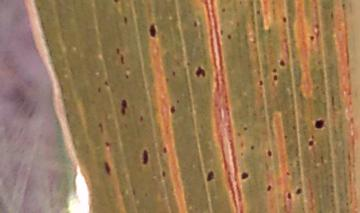tarspot: (145, 20, 160, 41), (311, 115, 328, 133), (139, 147, 152, 169), (236, 169, 255, 184), (117, 95, 129, 117), (193, 63, 209, 79), (100, 160, 115, 177), (202, 168, 218, 183), (294, 182, 304, 200), (305, 136, 317, 151), (264, 146, 275, 162), (306, 32, 318, 45), (167, 102, 178, 116), (255, 76, 266, 90), (270, 72, 282, 84), (252, 7, 264, 19), (102, 138, 114, 150), (224, 31, 235, 44), (279, 13, 290, 26), (159, 143, 169, 157), (190, 17, 200, 31), (158, 168, 169, 180), (278, 56, 288, 69), (247, 143, 258, 154), (284, 168, 294, 180), (136, 112, 145, 125), (264, 183, 274, 194), (102, 79, 112, 90), (94, 85, 105, 95), (285, 190, 294, 202), (269, 65, 279, 75), (118, 56, 128, 66), (218, 5, 227, 16), (123, 70, 130, 83), (113, 45, 122, 55), (170, 68, 177, 80), (283, 131, 290, 143), (120, 15, 130, 23), (328, 9, 335, 20), (108, 1, 122, 6), (242, 123, 248, 134)
